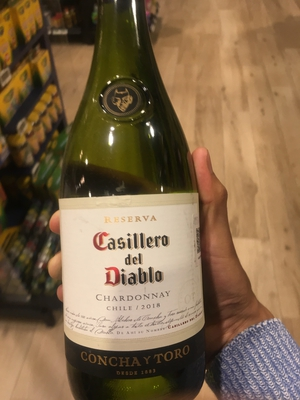casillero del diablo chardonnay: (54, 19, 206, 400)
